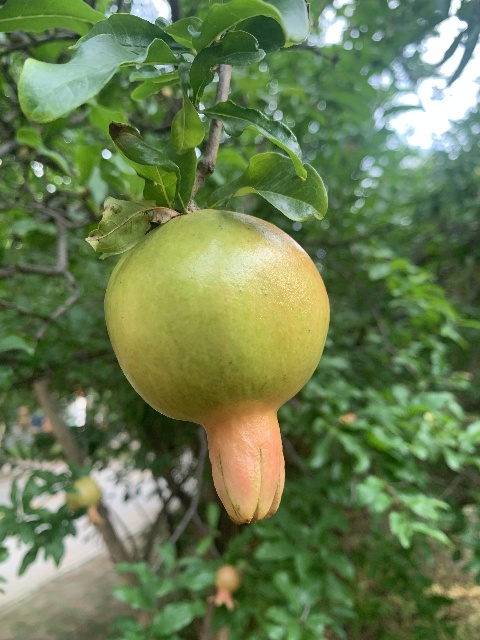mid-growth: (105, 208, 330, 524), (65, 479, 104, 524), (207, 566, 242, 609)
